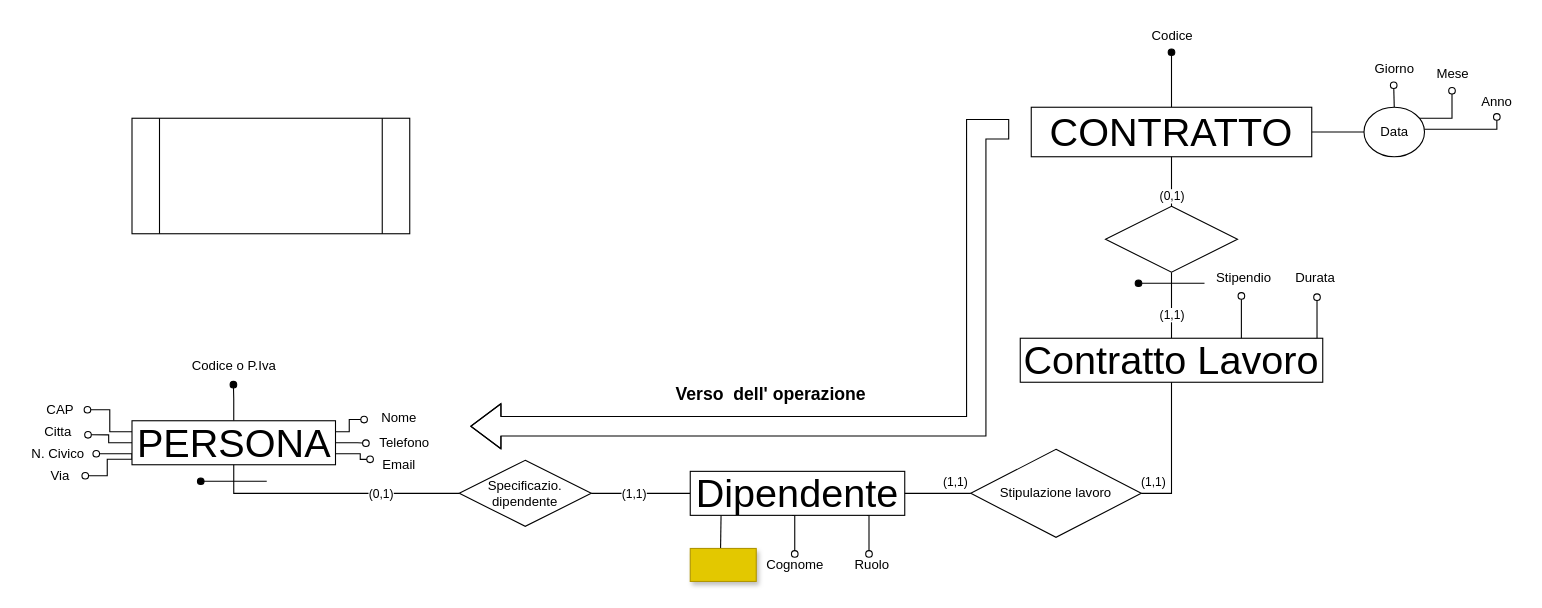
Some shapes in this 1542 by 608 pixel diagram are drawn without their labels. The centre of each missing label's shape, as x and y in pixels:
OPERAZIONI: -Operazione numero 9; -Operazione numero 18; -Operazione numero 24;: point 270,175
Salario: point 724,566
Specificazio. lavoro: point 1171,238
